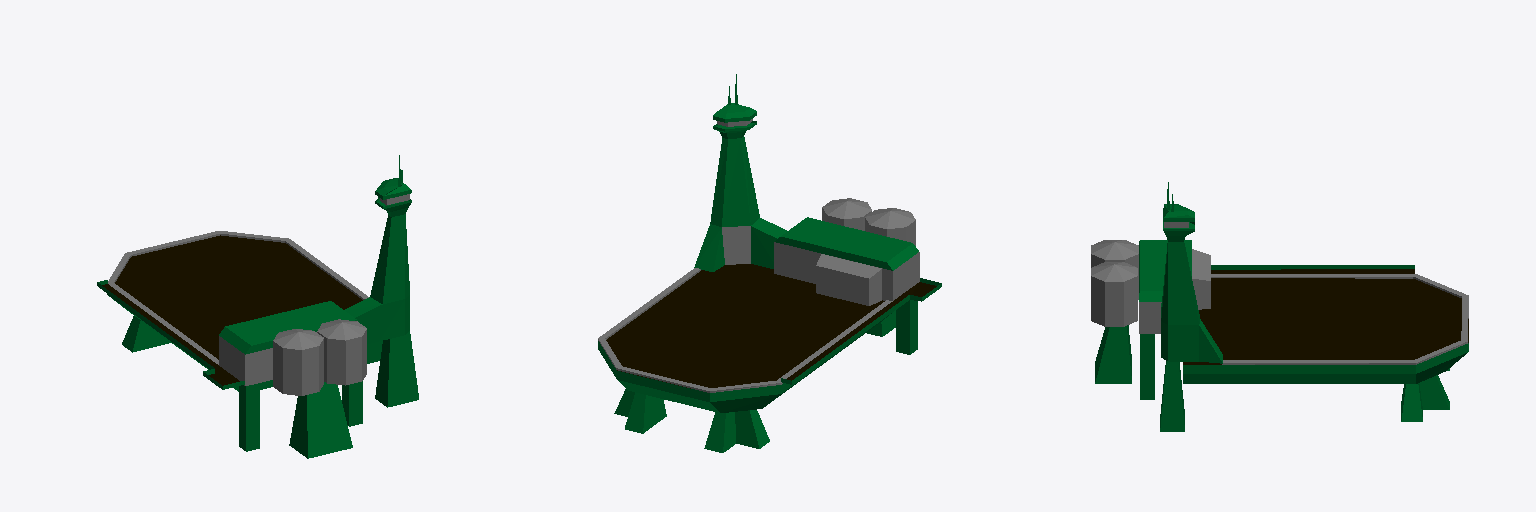
Rendered from landing.obj.
3 views of the same model, side by side, from view 1: azimuth 30°, elevation 25°; view 2: azimuth 150°, elevation 25°; view 3: azimuth 270°, elevation 25° (orthographic).
Parts seen in each view (by area): view 1: box01_FACES01; view 2: box01_FACES01; view 3: box01_FACES01.
Boxes of the visible parts, <box> form: box01_FACES01: <box>97,155,418,458</box>; box01_FACES01: <box>598,74,941,452</box>; box01_FACES01: <box>1091,182,1468,431</box>.
Size of the model in its own units: 226 by 262 by 357.